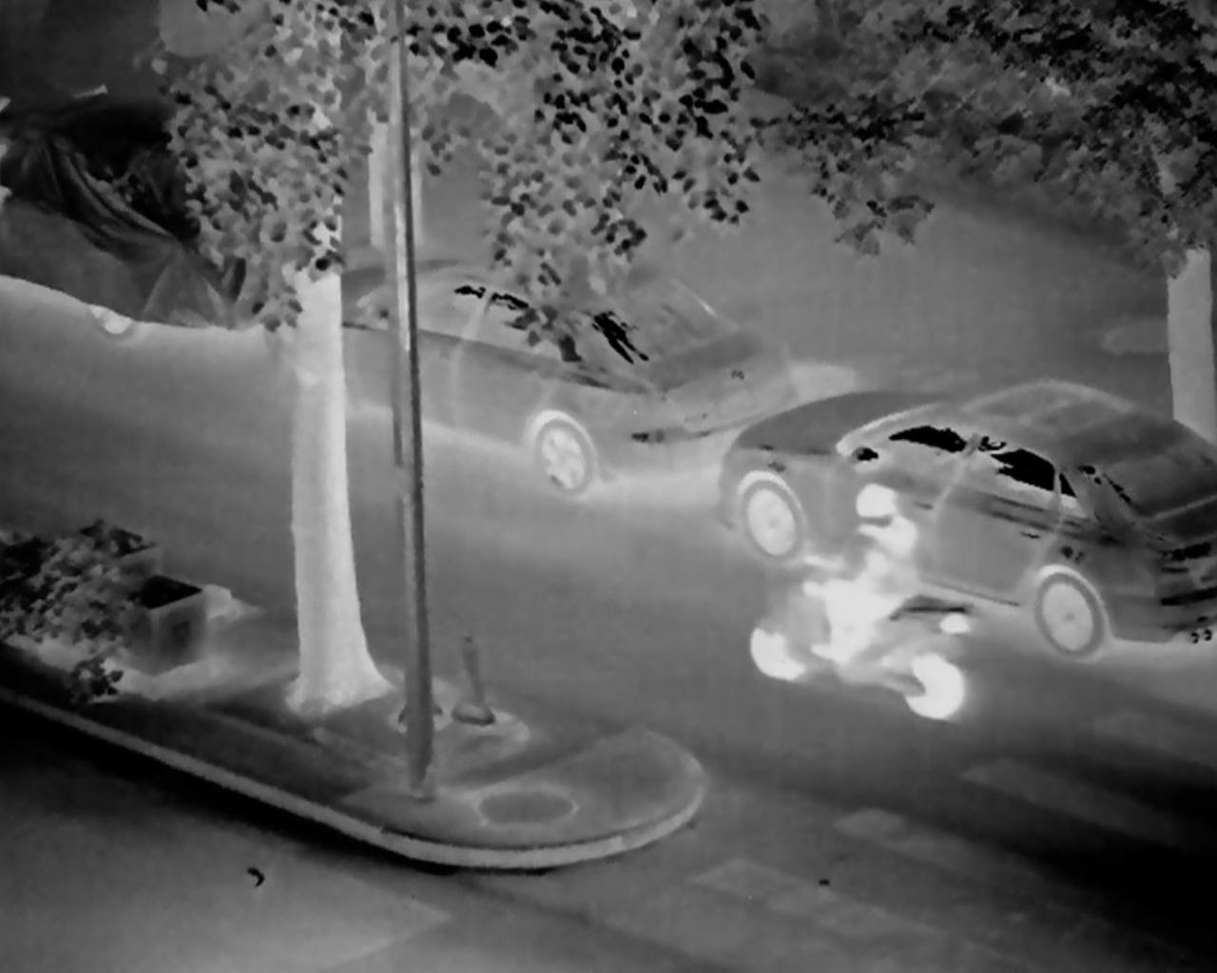person: (802, 486, 924, 678)
